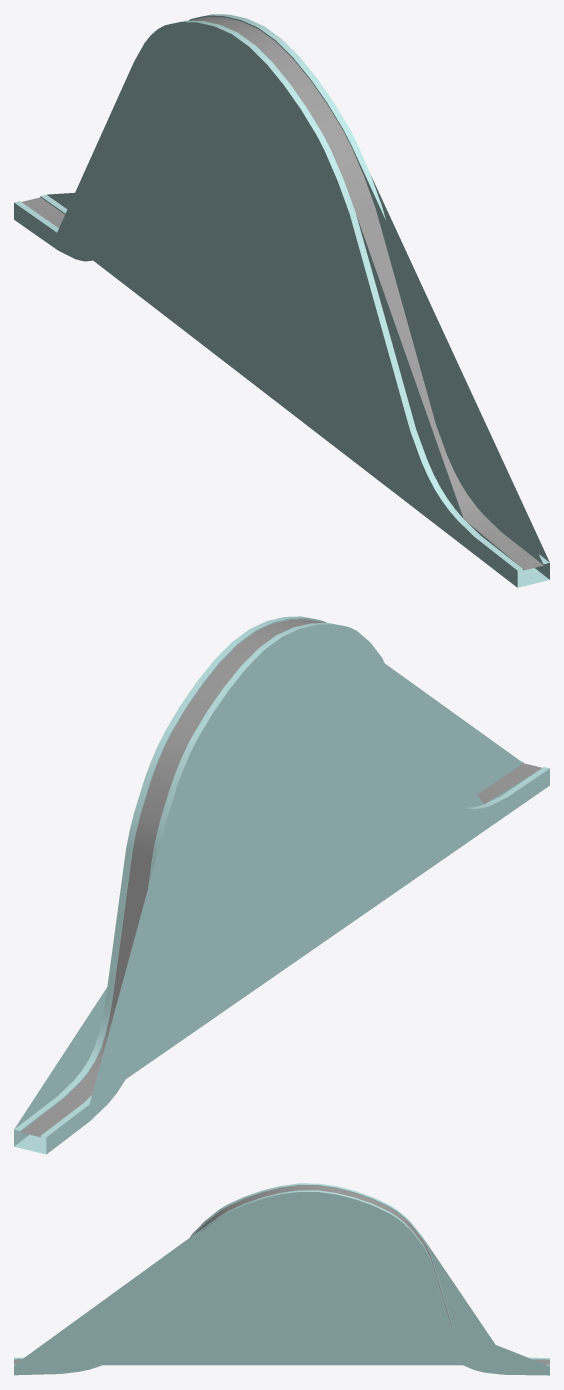
Rendered from bigupdown.fbx.
3 renders of one model, top to bottom at view 1: azimuth 30°, elevation 25°; view 2: azimuth 150°, elevation 25°; view 3: azimuth 270°, elevation 25°, orthographic. The views are drawn at different scales.
Visible parts, largest first — view 1: bigupdown; view 2: bigupdown; view 3: bigupdown.
Part boxes in pixels (<box>): bigupdown: <box>14,14,549,587</box>; bigupdown: <box>14,616,549,1154</box>; bigupdown: <box>14,1183,549,1375</box>.
Size of the model in its own units: 203 by 2069 by 5473.
